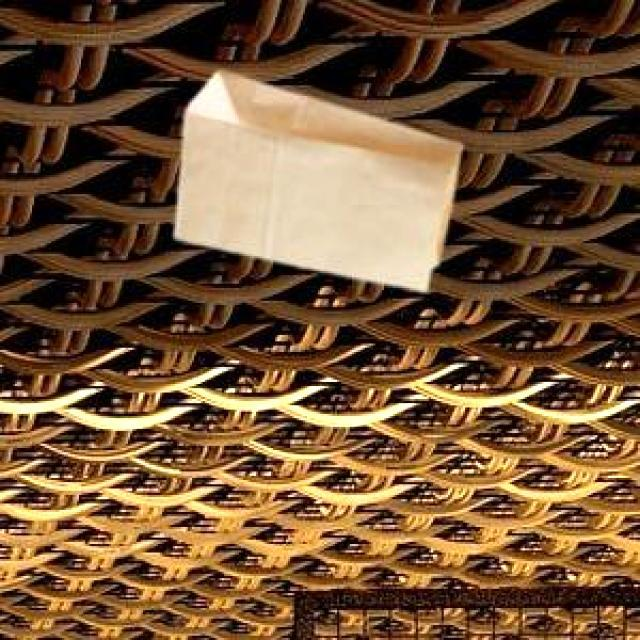Paper_Bag: (172, 67, 458, 289)
